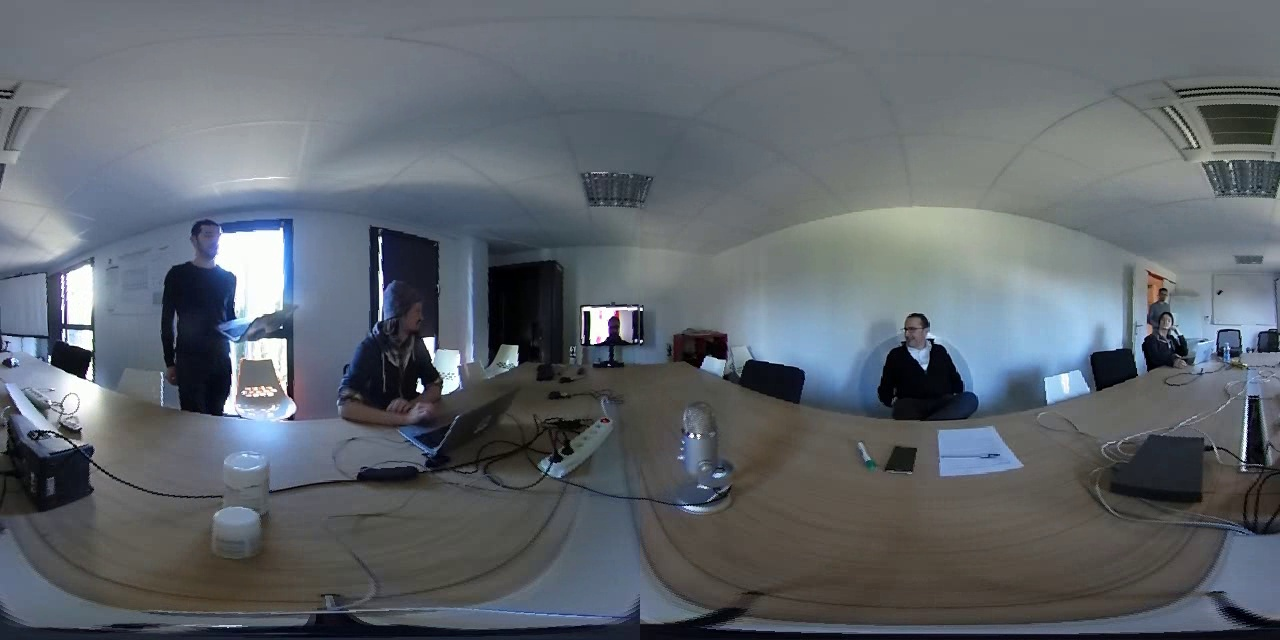person: (334, 256, 452, 425), (167, 207, 250, 391), (877, 300, 980, 427), (1138, 312, 1194, 367), (583, 303, 643, 341), (1146, 274, 1179, 309)
